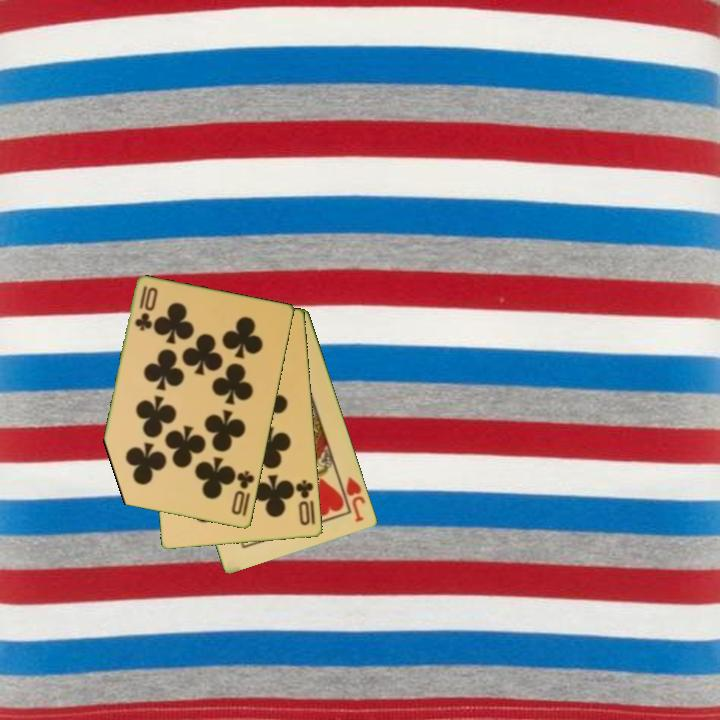10c: (228, 467, 257, 518), (292, 476, 317, 529), (131, 282, 154, 334)
Jh: (335, 472, 369, 525)
